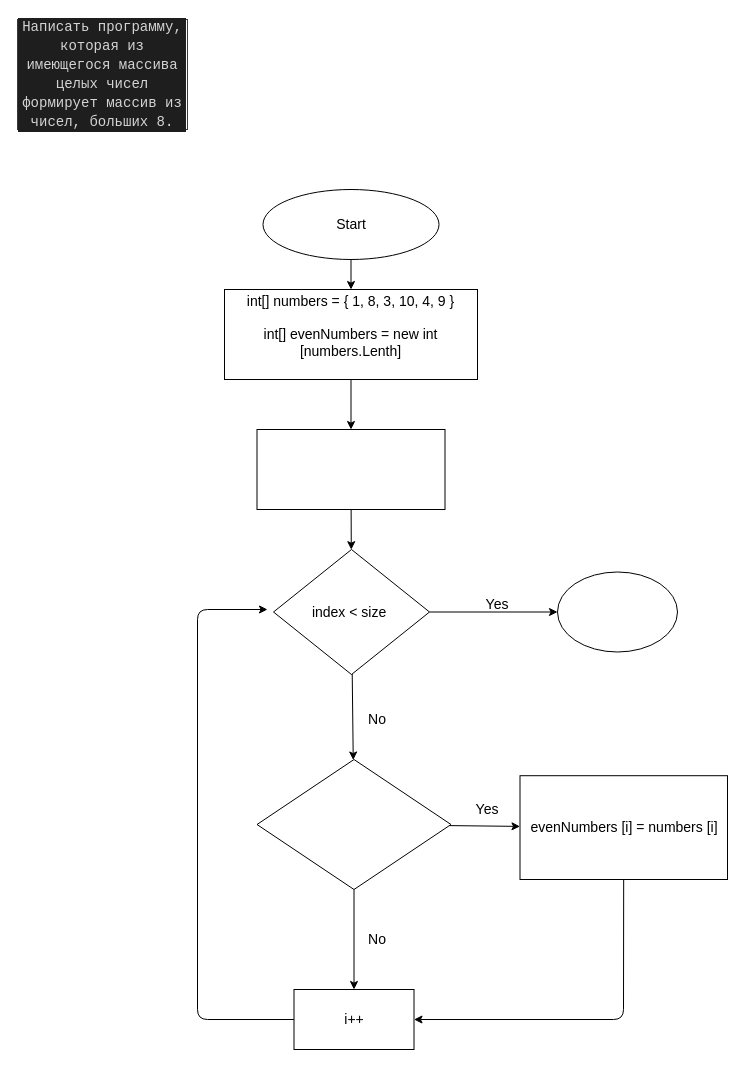
Some shapes in this 745 by 1067 pixel diagram are drawn without their labels. Here are the shapes that lost their labels. From the top down, the box of each, then its label:
(256, 428, 445, 510): i = 0 len = numbers.Lenth
(556, 571, 678, 652): END
(256, 758, 451, 890): numbers[i] > 8 ?
